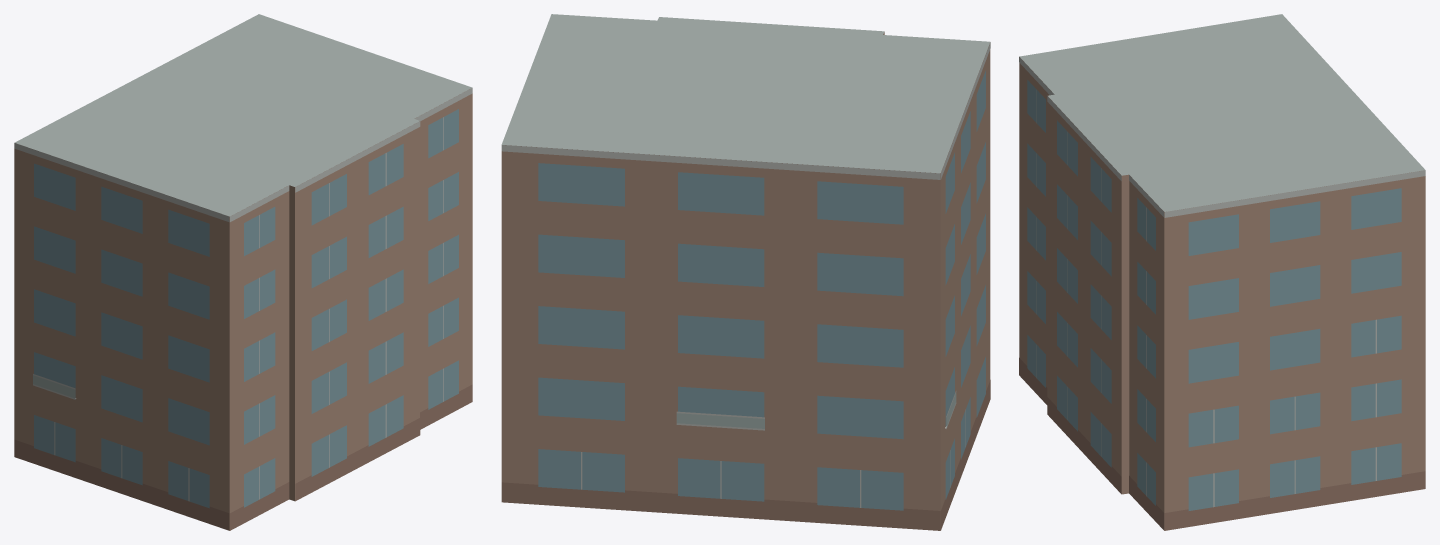
File: survey-upis-32697645.glb
The picture shows the model from 3 angles, left to right: view 1: azimuth 30°, elevation 25°; view 2: azimuth 150°, elevation 25°; view 3: azimuth 270°, elevation 25°; orthographic projection. The views are drawn at different scales.
Parts seen in each view (by area): view 1: survey-upis-32697645.tmp; view 2: survey-upis-32697645.tmp; view 3: survey-upis-32697645.tmp.
Boxes of the visible parts, bbox=[...] form: survey-upis-32697645.tmp: bbox=[14, 14, 472, 530]; survey-upis-32697645.tmp: bbox=[501, 14, 990, 530]; survey-upis-32697645.tmp: bbox=[1019, 14, 1425, 530].
Size of the model in its own units: 17.6 by 13.2 by 15.26.
